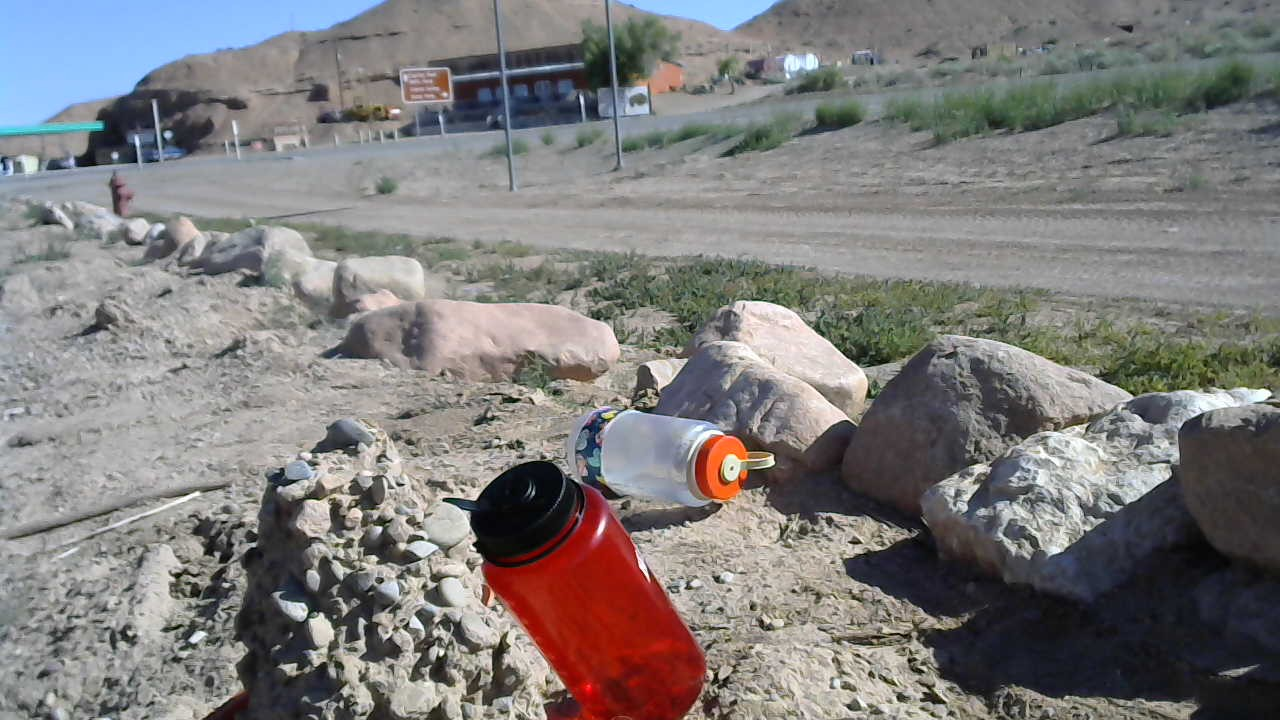bottle: (464, 457, 709, 720), (562, 404, 776, 510)
